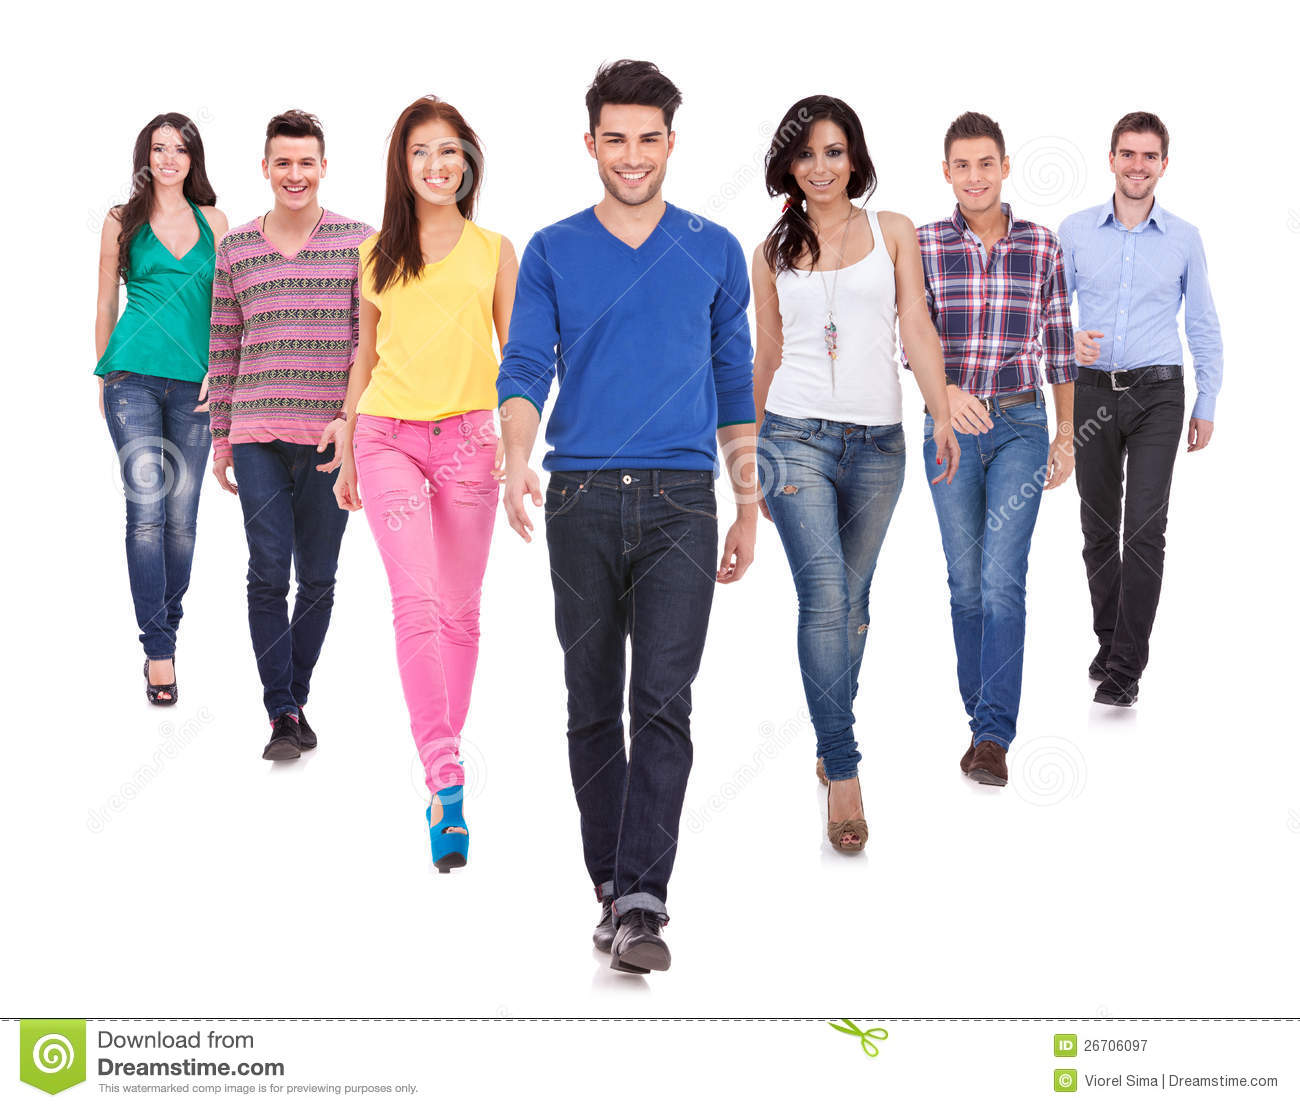face: (577, 61, 677, 217), (770, 89, 868, 211), (390, 91, 471, 212), (934, 109, 1005, 215), (1102, 106, 1174, 201), (130, 111, 208, 195), (262, 111, 329, 207)
